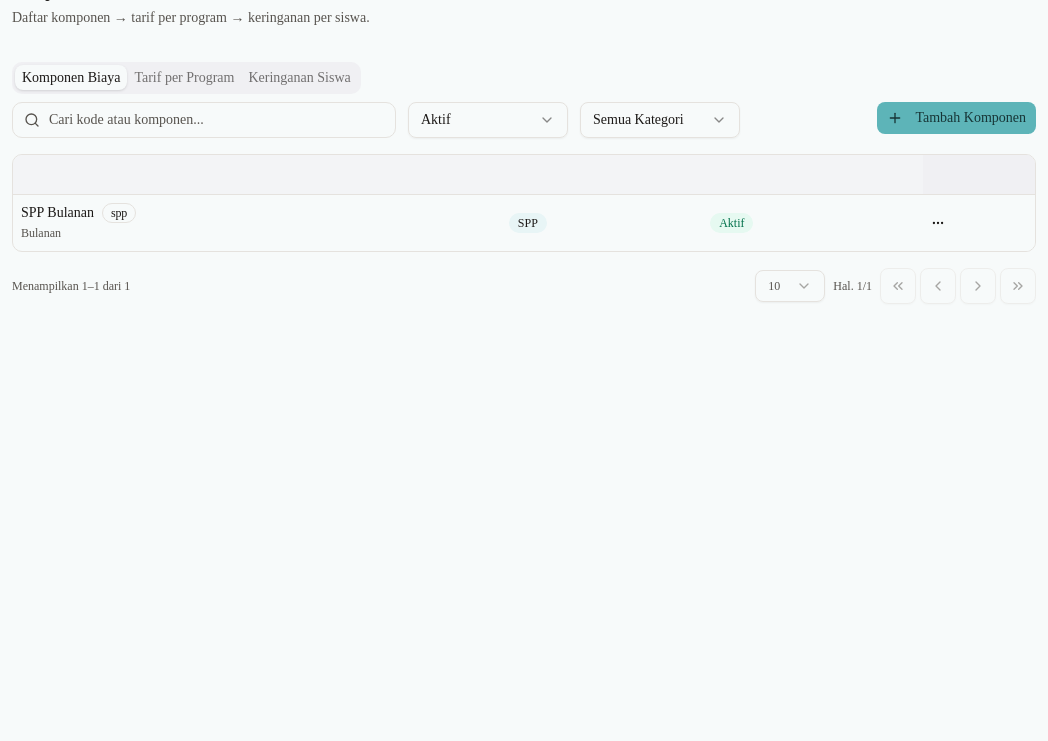
Test: FeesPage › Tarif per Program: shows the Harga paket section for the selected year, below the fee table
Click the tab "Tarif per Program" at (184, 78), box [127, 65, 242, 90]
(page scrolled)
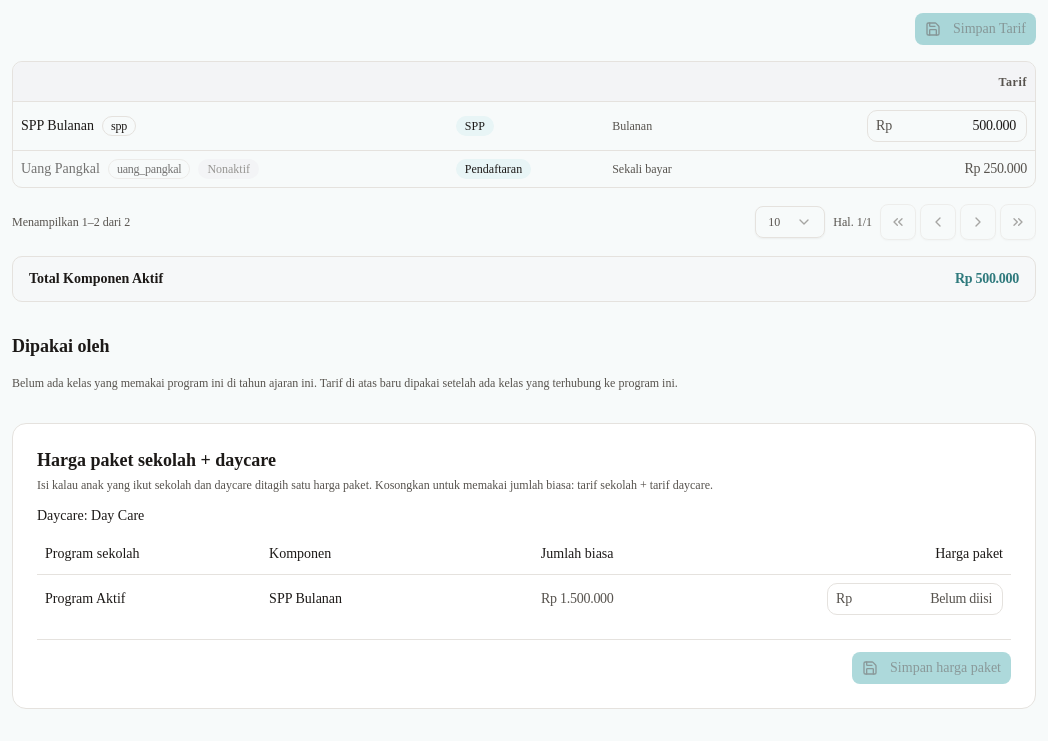
Expected: the heading "Harga paket sekolah + daycare" is shown, [37, 450, 276, 470]
Expected: the field named "Harga paket SPP Bulanan, Program Aktif + Day Care" is empty, [852, 583, 1002, 615]
Expected: the text "Rp 1.500.000" is shown, [442, 574, 622, 623]
